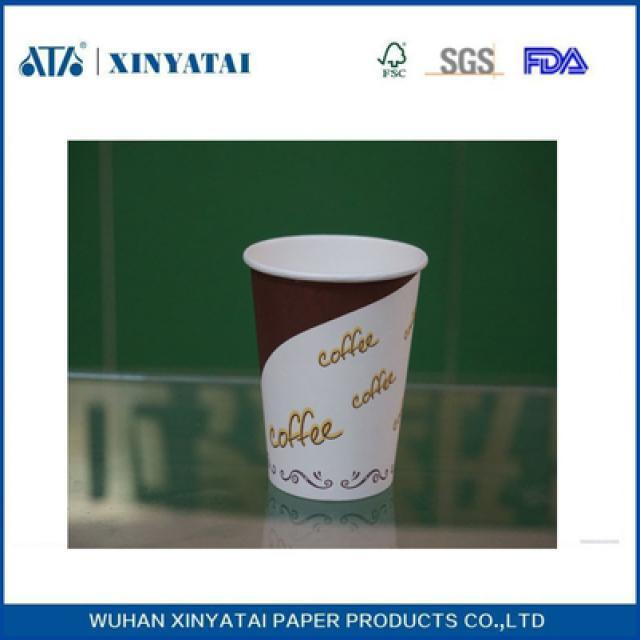Cup: (240, 235, 428, 512)
